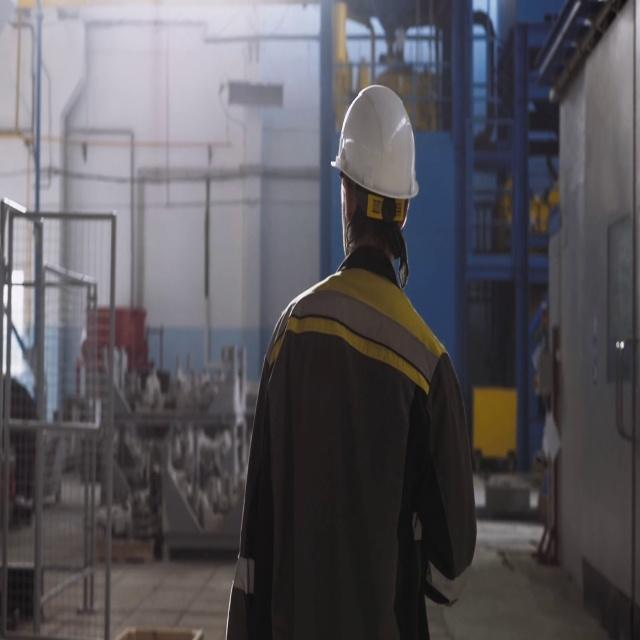helmet: (329, 108, 421, 364)
vest: (266, 336, 462, 640)
